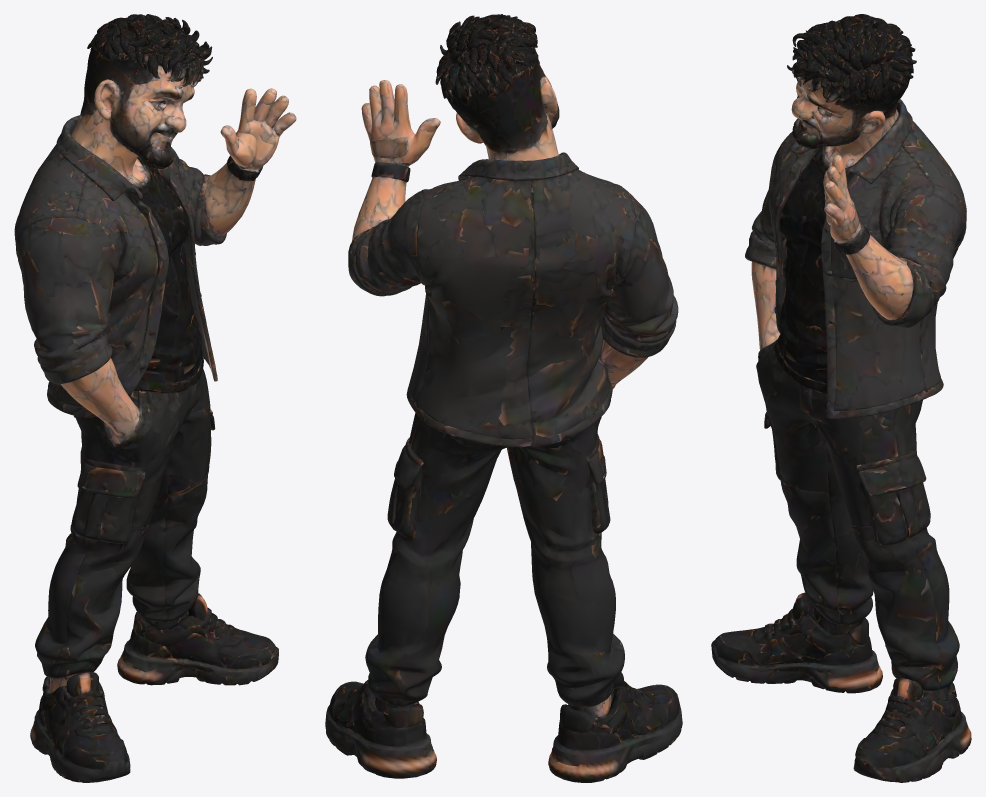
Rendered from person-preview.glb.
3 renders of one model, left to right at view 1: azimuth 30°, elevation 25°; view 2: azimuth 150°, elevation 25°; view 3: azimuth 270°, elevation 25°, orthographic. The views are drawn at different scales.
Visible parts, largest first — view 1: Object_01; view 2: Object_01; view 3: Object_01.
Boxes of the visible parts, box(x1,y1,x2,y2) form: Object_01: box(14, 14, 296, 782); Object_01: box(325, 14, 682, 782); Object_01: box(711, 14, 971, 782).
Bounding box in the file's own units: 0.8029 × 1.9 × 0.6374.
1 material, 1 textured.
